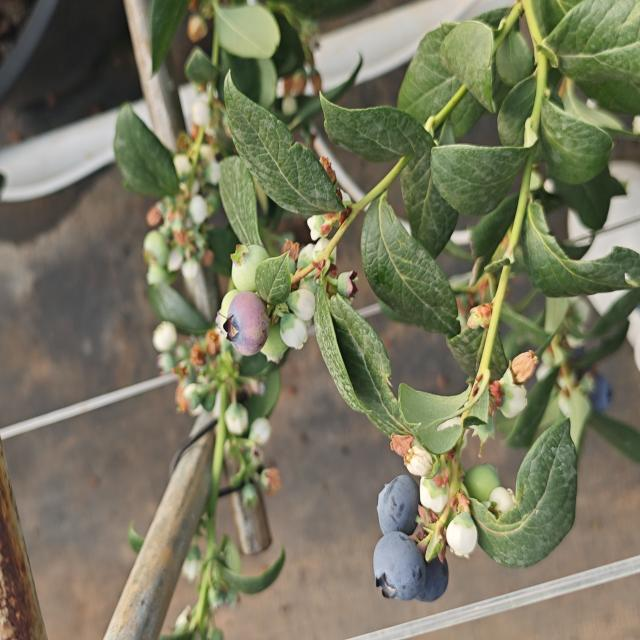ripe: (369, 529, 415, 594), (377, 471, 421, 532), (587, 360, 620, 427), (415, 564, 447, 600)
